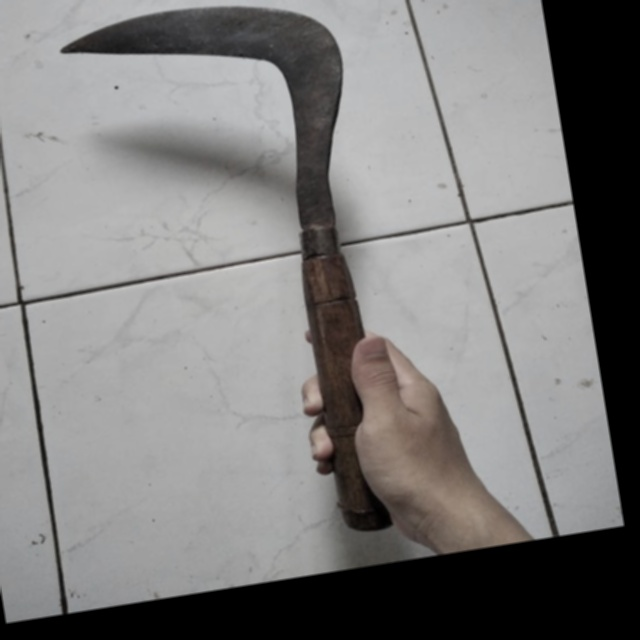Sharp-Object: (42, 0, 456, 584)
